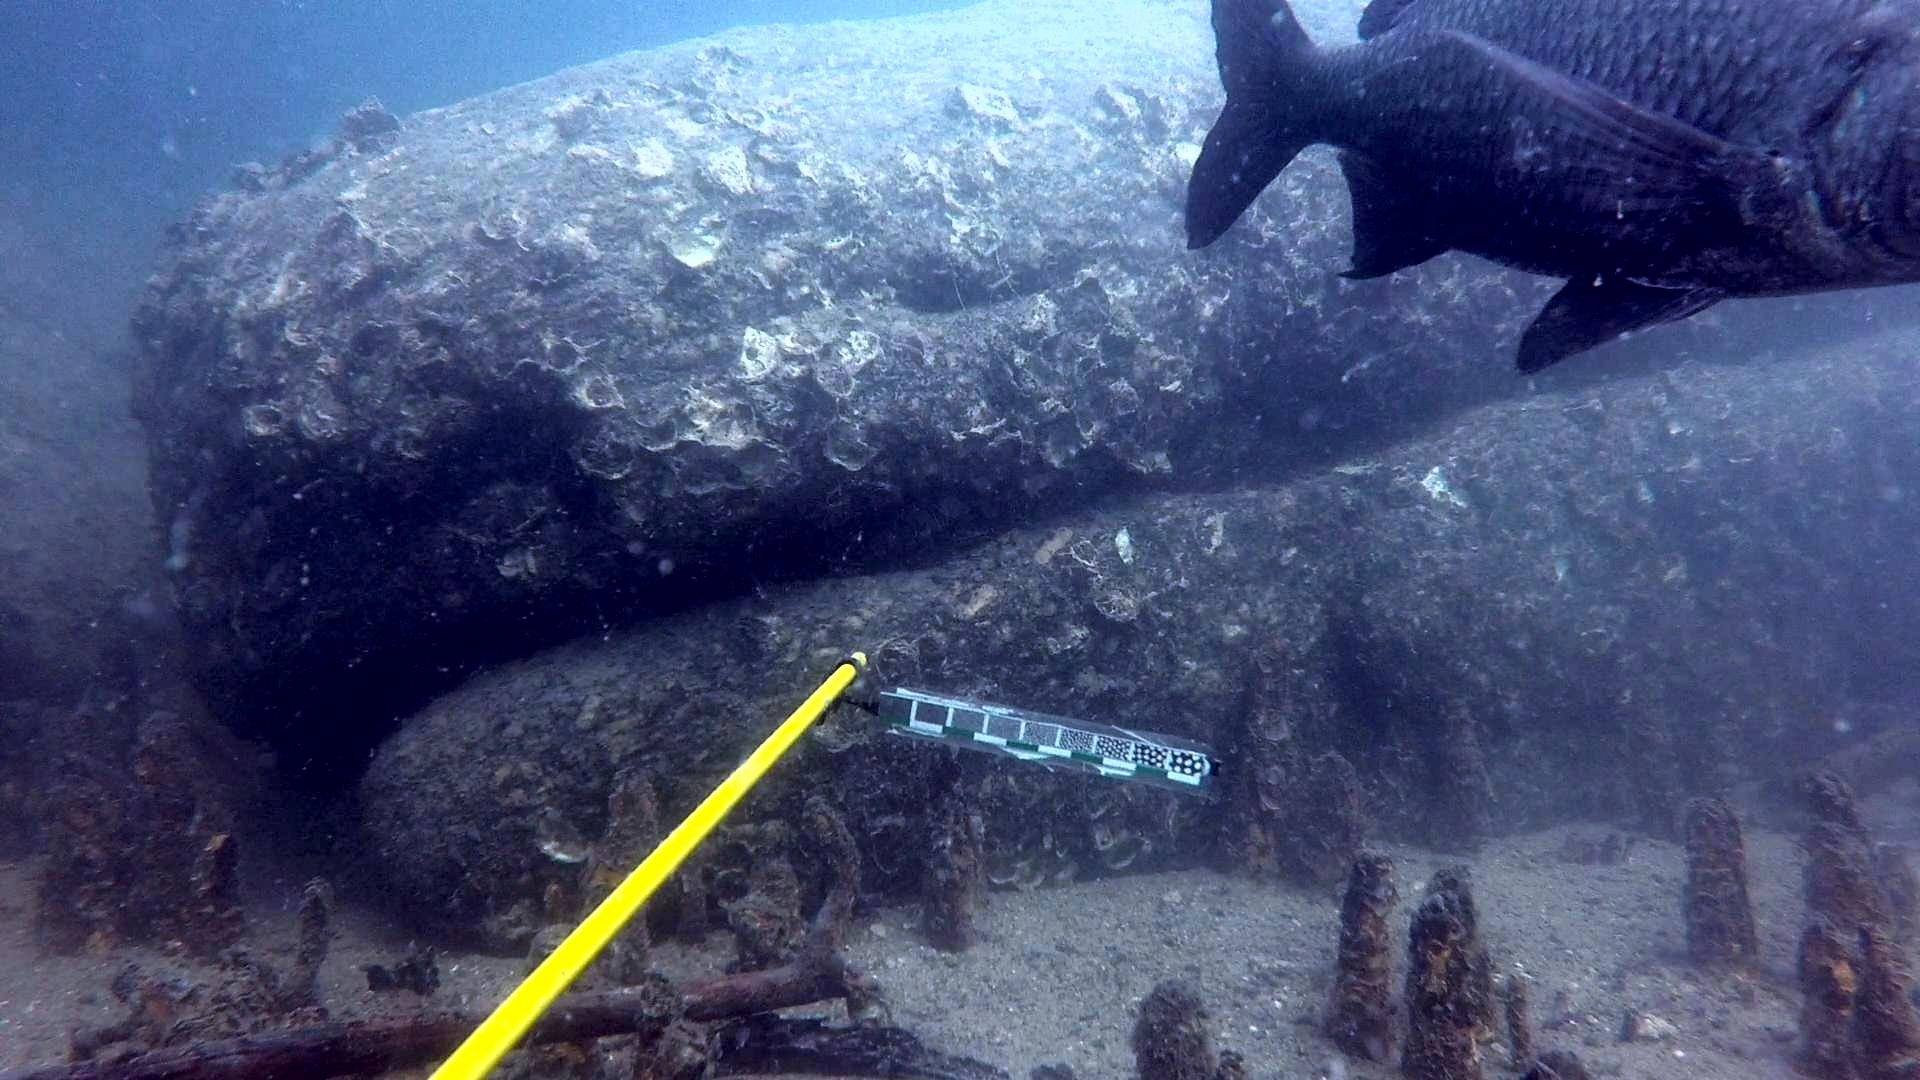acanthopagrus palmaris: (1165, 0, 1920, 373)
